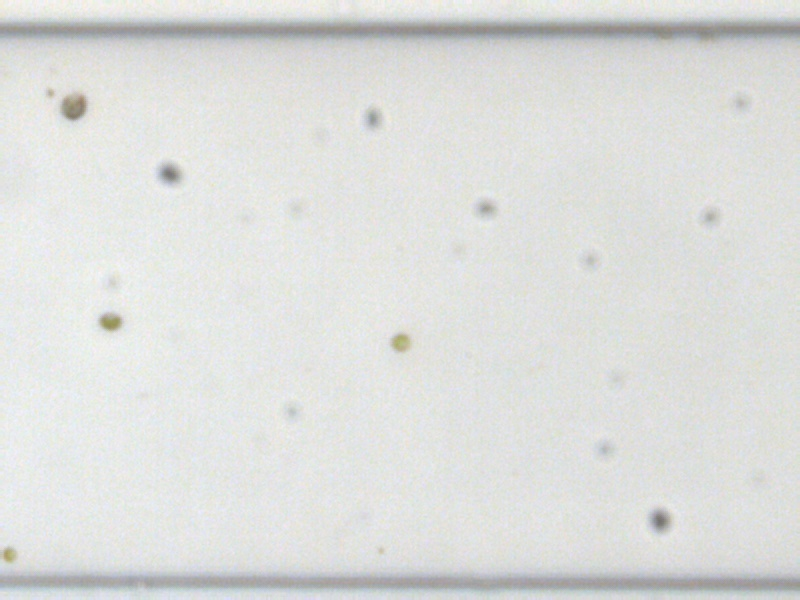Chlorella: (97, 310, 123, 331), (389, 331, 410, 351), (0, 543, 20, 564)
Dunaliella salina: (58, 87, 86, 120)
